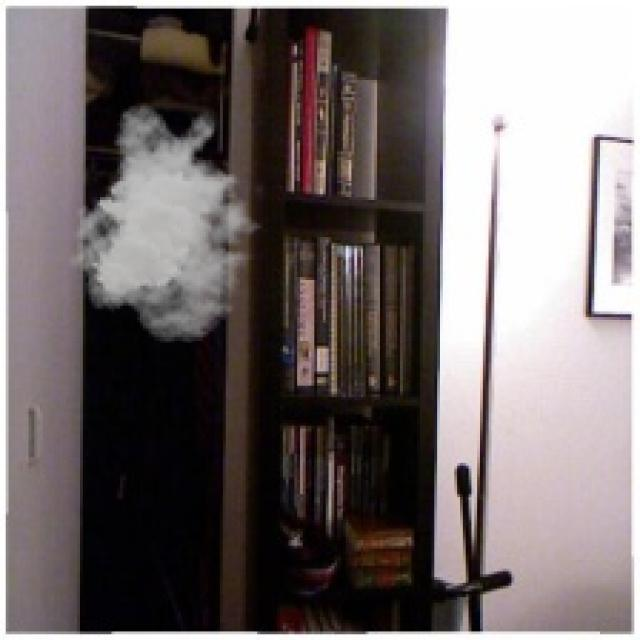Smoke: (68, 103, 272, 343)
